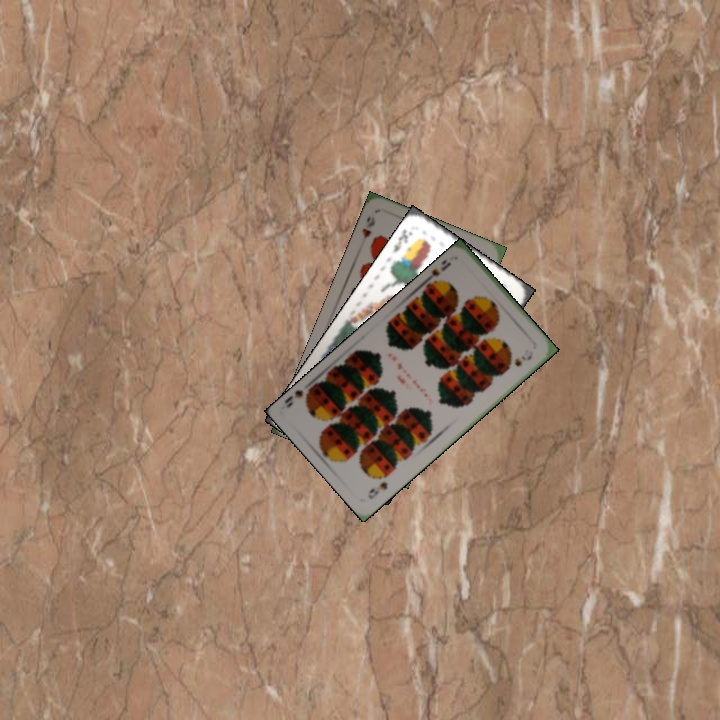EK: (389, 226, 415, 255)
H9: (356, 213, 378, 248)
S9: (425, 257, 453, 290), (363, 478, 390, 502)
